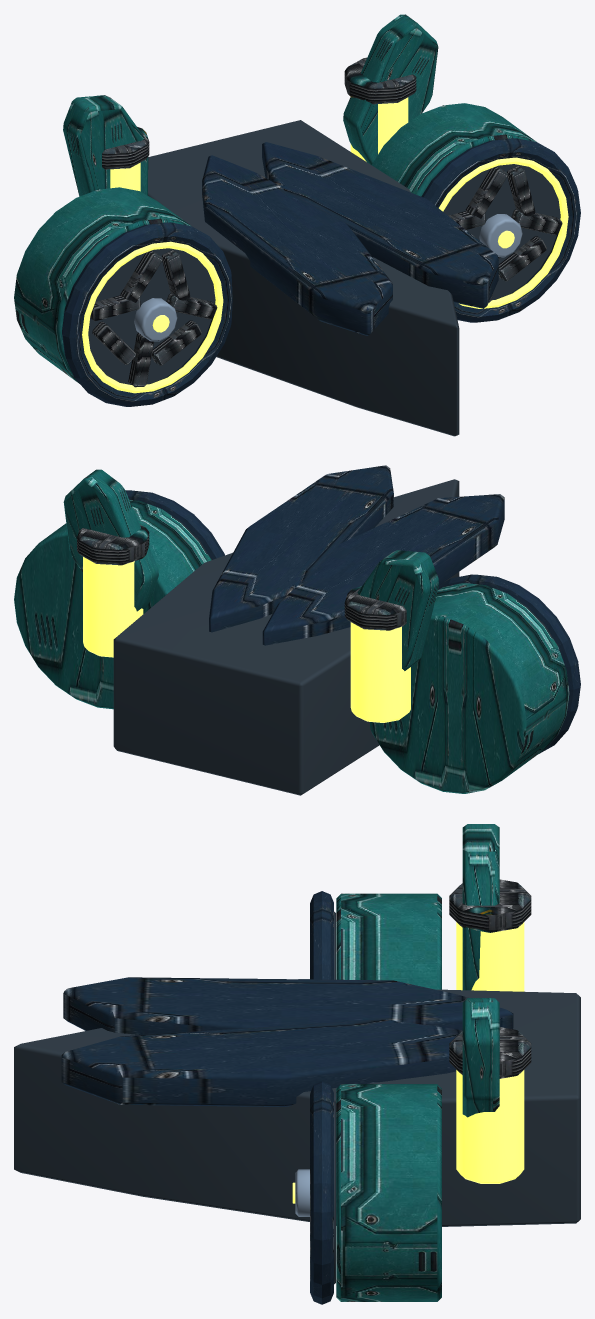
Rendered from flyer.glb.
The picture shows the model from 3 angles, top to bottom: view 1: azimuth 30°, elevation 25°; view 2: azimuth 150°, elevation 25°; view 3: azimuth 270°, elevation 25°; orthographic projection. The views are drawn at different scales.
Parts seen in each view (by area): view 1: Split arrow nose, Pointed interceptor chassis, Swept dorsal vane, Turbine impeller blade, Turbine running light, Turbine hub, Biome pressure capsule; view 2: Swept dorsal vane, Pointed interceptor chassis, Split arrow nose, Biome pressure capsule, Turbine impeller blade; view 3: Pointed interceptor chassis, Split arrow nose, Swept dorsal vane, Biome pressure capsule, Turbine impeller blade, Turbine hub.
Part boxes in pixels (box(x1,y1,x2,y2)): Split arrow nose: box(62, 138, 580, 406); Pointed interceptor chassis: box(88, 120, 560, 436); Swept dorsal vane: box(14, 14, 536, 383); Turbine impeller blade: box(90, 57, 562, 387); Turbine running light: box(82, 157, 568, 393); Turbine hub: box(134, 214, 522, 341); Biome pressure capsule: box(110, 97, 408, 191); Swept dorsal vane: box(14, 469, 569, 793); Pointed interceptor chassis: box(113, 479, 459, 795); Split arrow nose: box(125, 465, 580, 753); Biome pressure capsule: box(83, 557, 410, 722); Turbine impeller blade: box(77, 524, 406, 630); Pointed interceptor chassis: box(14, 911, 580, 1284); Split arrow nose: box(61, 891, 513, 1304); Swept dorsal vane: box(336, 824, 499, 1301); Biome pressure capsule: box(456, 922, 524, 1183); Turbine impeller blade: box(449, 879, 531, 1078); Turbine hub: box(295, 979, 309, 1216).
Size of the model in its own units: 1.47 by 0.6893 by 1.23.
Materials: 7 (3 with a texture image).
